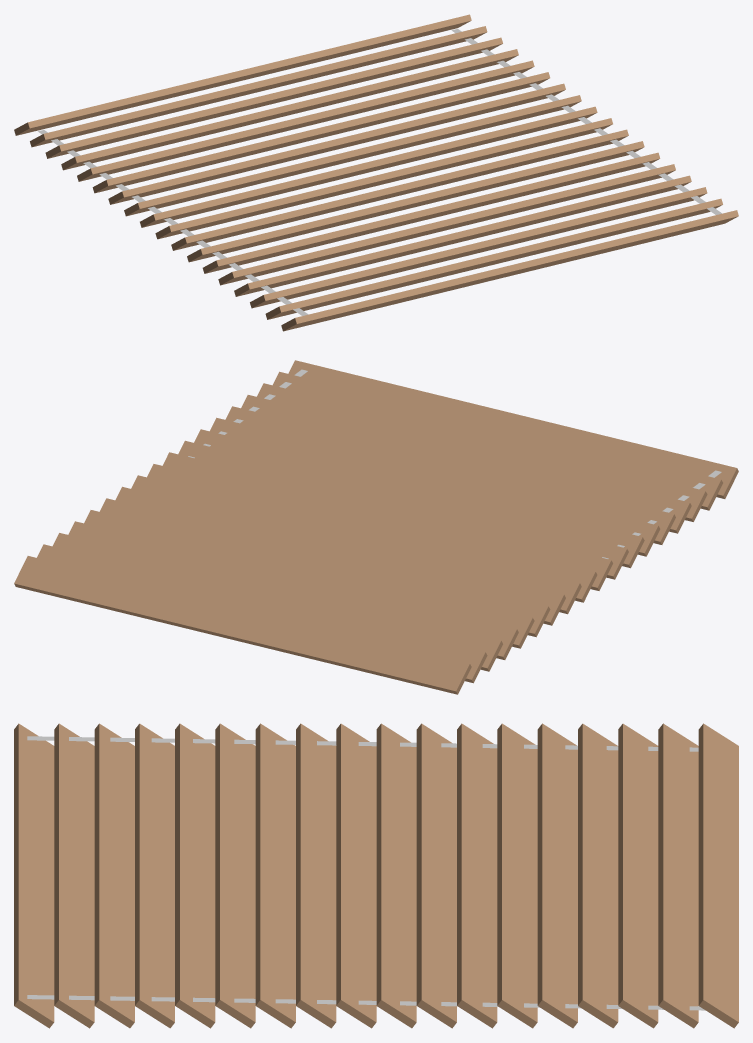
File: Door_Ac_A.glb
3 renders of one model, top to bottom at view 1: azimuth 30°, elevation 25°; view 2: azimuth 150°, elevation 25°; view 3: azimuth 270°, elevation 25°, orthographic. The views are drawn at different scales.
Visible parts, largest first — view 1: Door Ac A; view 2: Door Ac A; view 3: Door Ac A.
Part boxes in pixels (x1=…): Door Ac A: x1=14, y1=14, x2=738, y2=331; Door Ac A: x1=14, y1=360, x2=738, y2=694; Door Ac A: x1=14, y1=723, x2=738, y2=1028.
Size of the model in its own units: 0.6773 by 0.0328 by 0.7506.
1 material, 1 textured.
